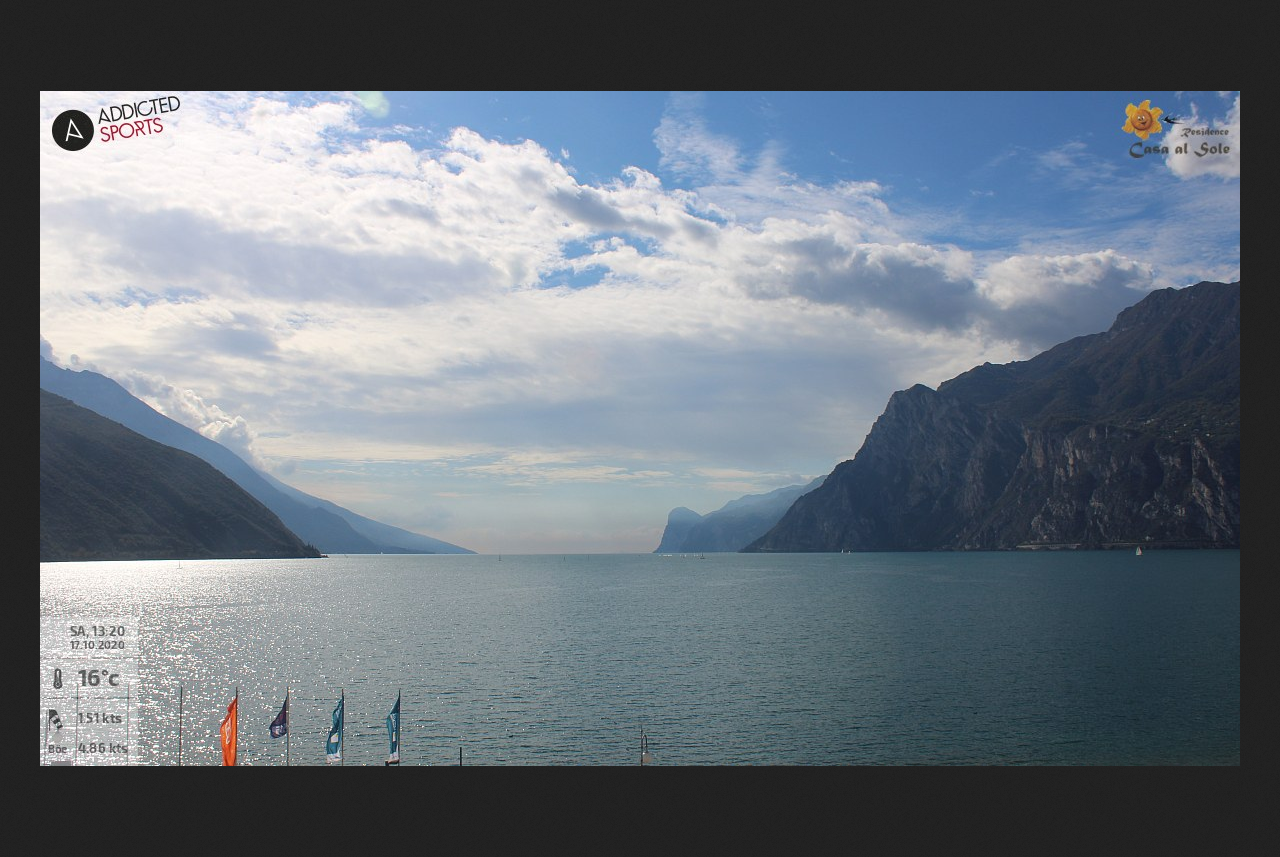maybe: (217, 697, 238, 776), (269, 699, 289, 734)
no: (324, 699, 346, 761), (386, 695, 403, 764)
